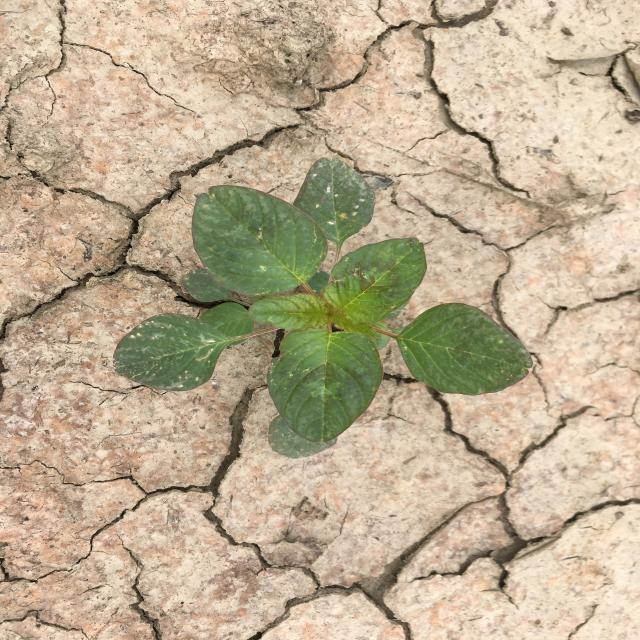PalmerAmaranth: (113, 157, 533, 459)
